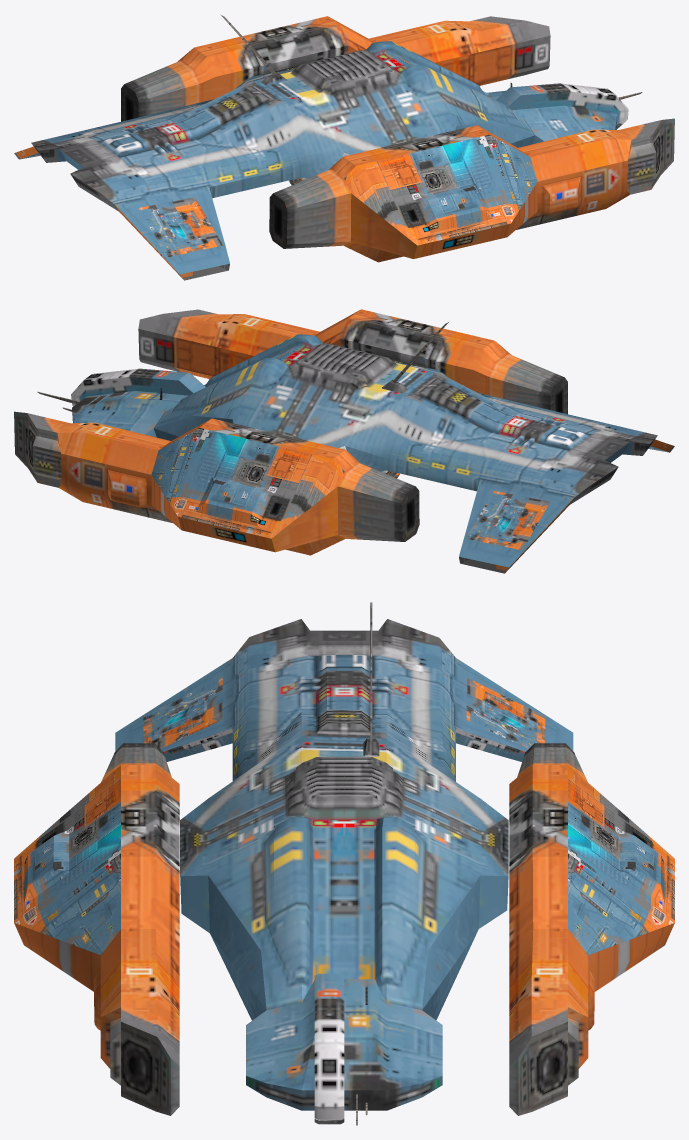
The model's file is attack_bomber.FBX.
3 renders of one model, top to bottom at view 1: azimuth 30°, elevation 25°; view 2: azimuth 150°, elevation 25°; view 3: azimuth 270°, elevation 25°, orthographic. The views are drawn at different scales.
Visible parts, largest first — view 1: group1, group14, group12, group24, group11, group2, group15, group3, group25; view 2: group1, group12, group14, group22, group11, group2, group13, group3, group23; view 3: group1, group11, group12, group14, group22, group24, group2, group13, group15, group3.
Part boxes in pixels (<box>): group1: <box>31,52,628,274</box>; group14: <box>269,118,674,262</box>; group12: <box>121,16,550,121</box>; group24: <box>344,134,537,245</box>; group11: <box>99,14,642,156</box>; group2: <box>138,197,223,257</box>; group15: <box>414,183,492,233</box>; group3: <box>14,144,229,280</box>; group25: <box>540,177,580,214</box>; group1: <box>71,344,657,567</box>; group12: <box>14,411,419,555</box>; group14: <box>138,309,567,414</box>; group22: <box>151,428,344,538</box>; group11: <box>37,322,589,449</box>; group2: <box>466,491,550,550</box>; group13: <box>196,476,274,526</box>; group3: <box>459,437,674,573</box>; group23: <box>108,470,148,507</box>; group1: <box>115,619,573,1124</box>; group11: <box>264,602,424,1125</box>; group12: <box>509,743,674,1115</box>; group14: <box>14,743,179,1115</box>; group22: <box>568,765,674,955</box>; group24: <box>14,765,120,955</box>; group2: <box>143,677,545,748</box>; group13: <box>619,830,664,904</box>; group15: <box>24,830,68,905</box>; group3: <box>163,728,525,761</box>.
Bounding box in the file's own units: 1942 × 680 × 1360.
Materials: 1 (1 with a texture image).
